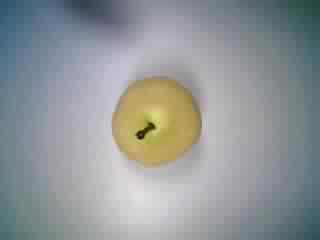pear: (97, 70, 208, 176)
